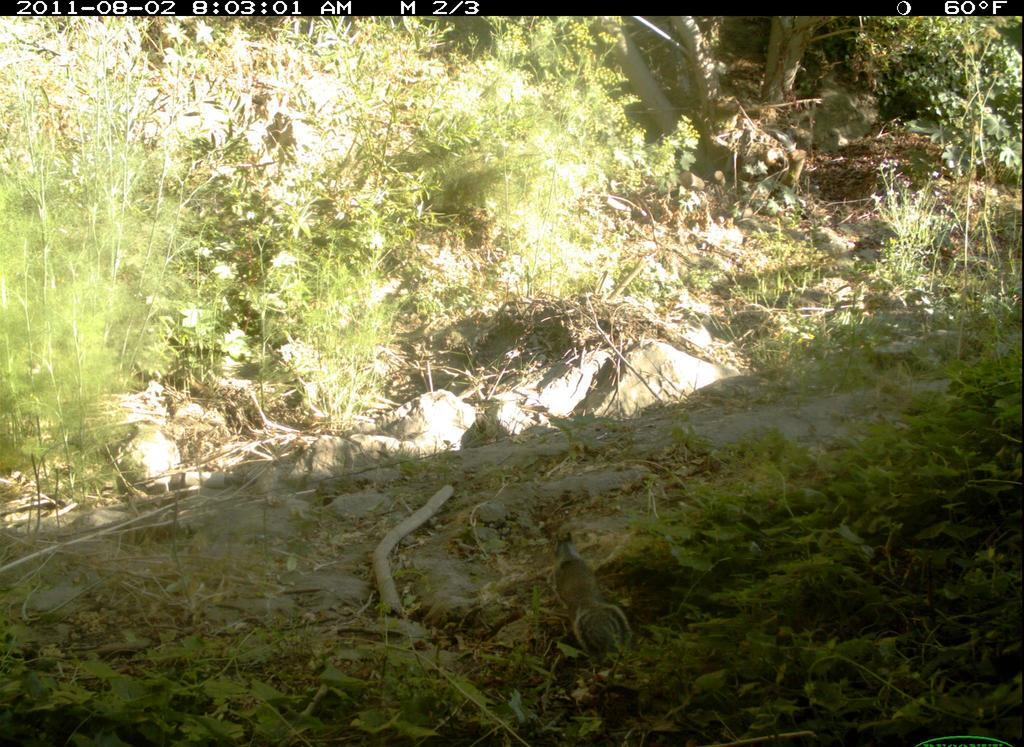squirrel: (532, 520, 642, 667)
